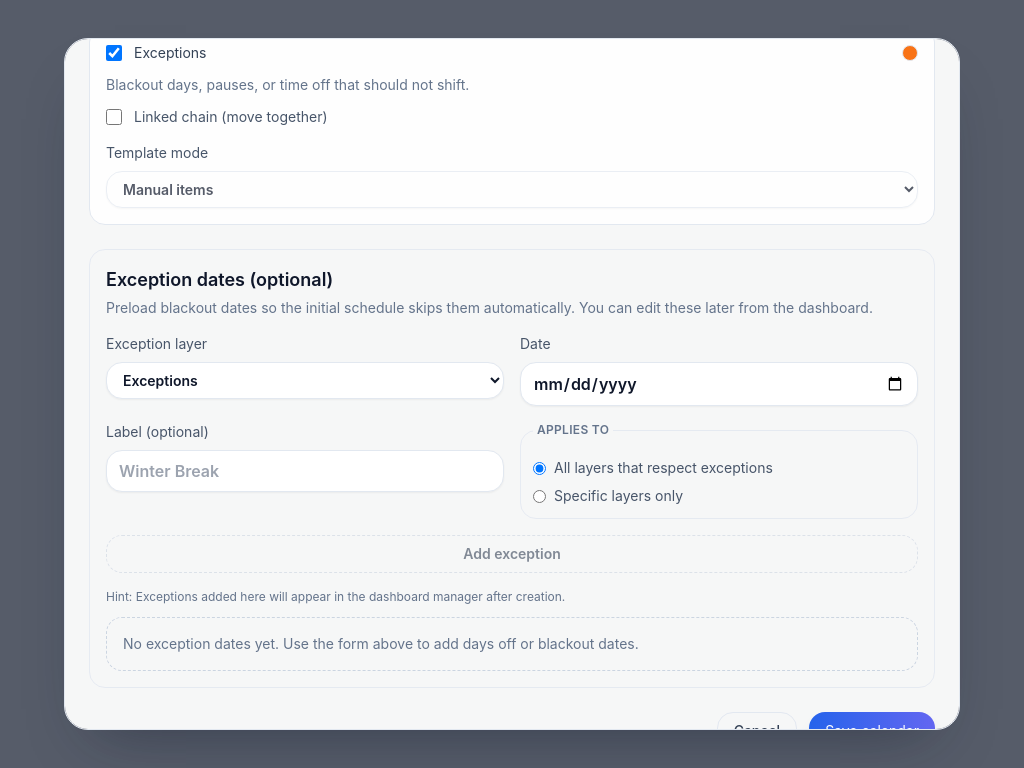
SetupWizard › shows scoped exception summary when added
The width and height of the screenshot is (1024, 768).
(page scrolled)
Type "2025-12-24" into the date field labelled "Date" at (719, 384), box [520,362,918,406]
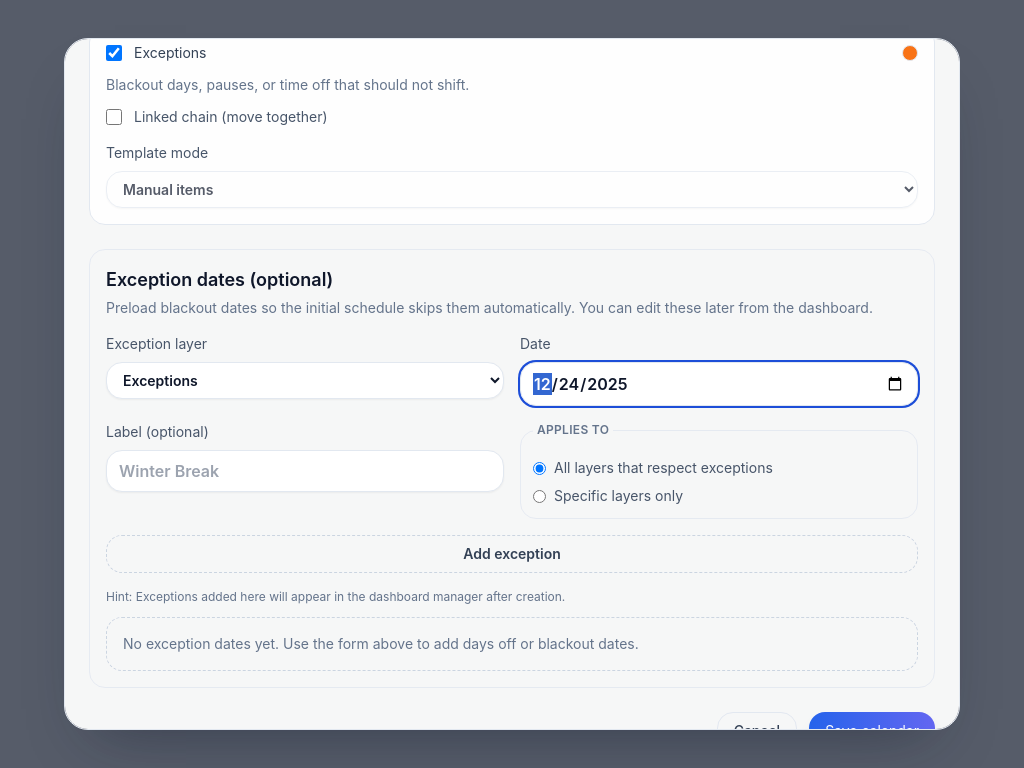
Type "Holiday Break" into the field labelled "Label (optional)" at (305, 471), box [106,450,504,492]
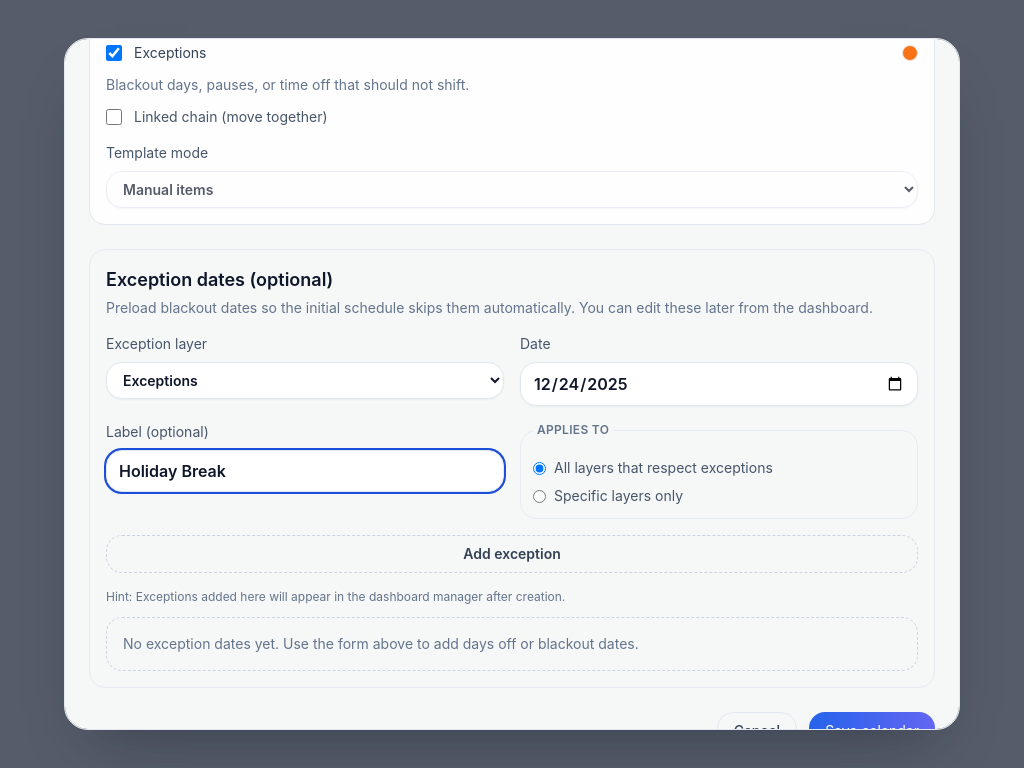
Click the radio button labelled "Specific layers only" at (540, 496), box [533,490,546,503]
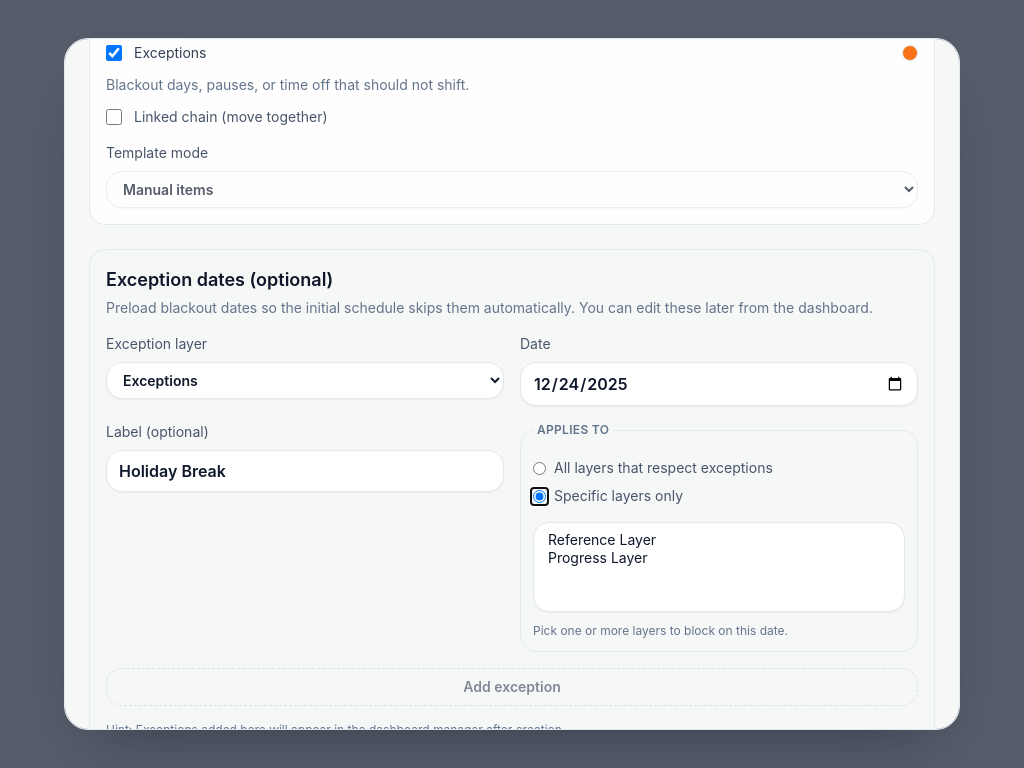
Select "Progress Layer" in the dropdown named "target layers" at (719, 567), box [533,522,905,612]
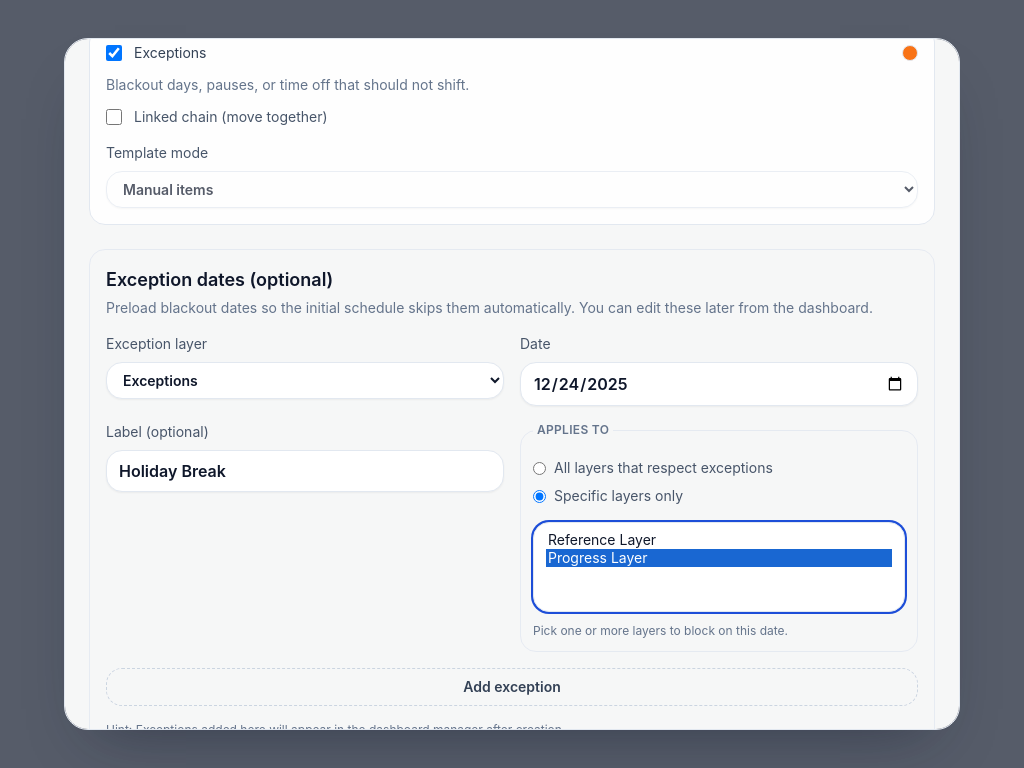
Click the button "Add exception" at (512, 687), box [106,668,918,706]
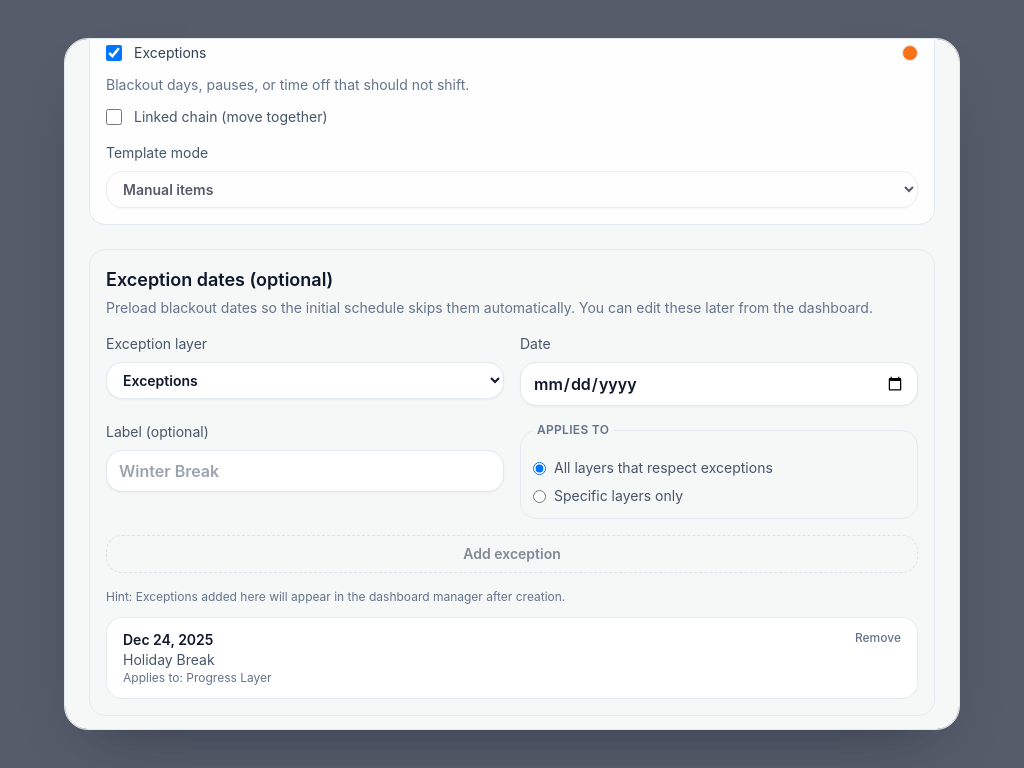
Check: the text "Holiday Break" is shown, box [123,651,215,668]
Check: the list item "Dec 24, 2025 Holiday Break Applies to: Progress Layer Remove" is shown, box [106,617,918,699]
